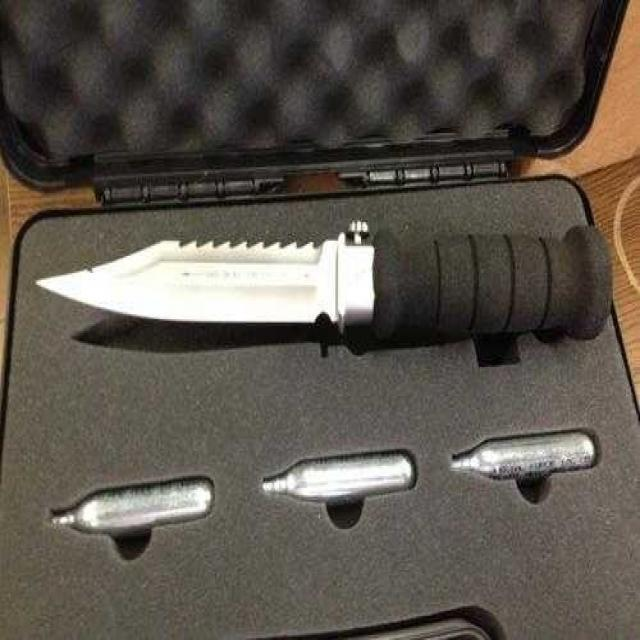knife: (24, 198, 626, 374)
